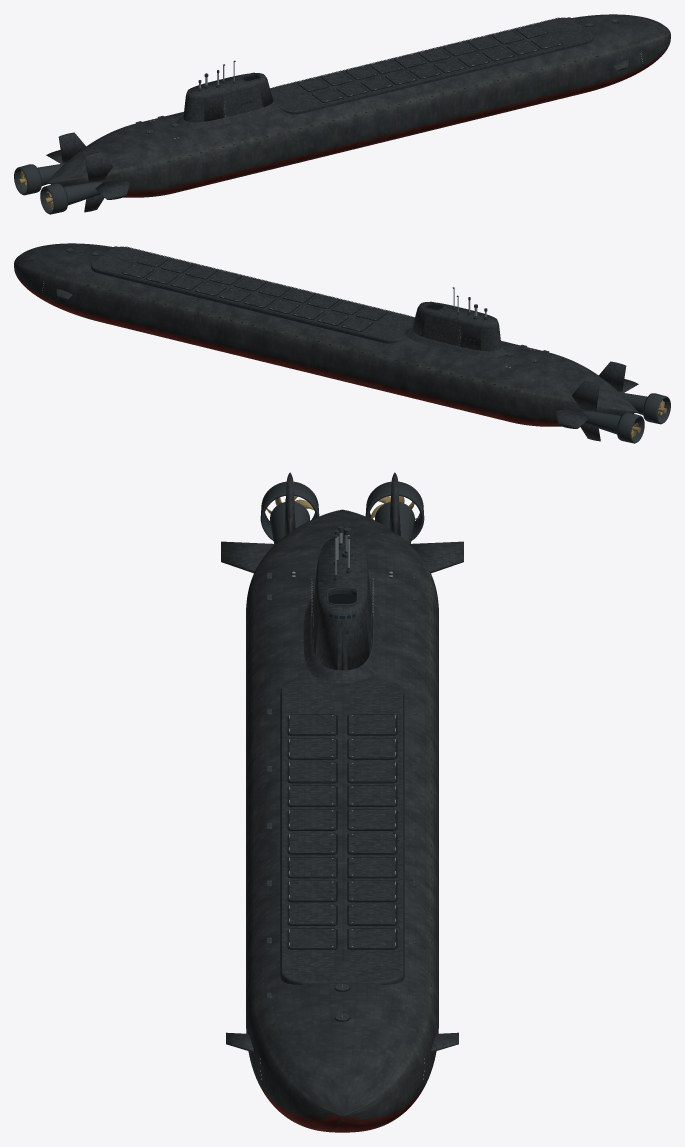
File: RU_SSBN_Typhoon_LOD2.fbx
3 views of the same model, one above another, from view 1: azimuth 30°, elevation 25°; view 2: azimuth 150°, elevation 25°; view 3: azimuth 270°, elevation 25° (orthographic). The views are drawn at different scales.
Visible parts, largest first — view 1: SM_Typhoon_LOD2; view 2: SM_Typhoon_LOD2; view 3: SM_Typhoon_LOD2.
Boxes of the visible parts, box(x1,y1,x2,y2) form: SM_Typhoon_LOD2: box(14, 14, 670, 214); SM_Typhoon_LOD2: box(14, 243, 670, 443); SM_Typhoon_LOD2: box(221, 472, 463, 1132).
Size of the model in its own units: 175 by 29 by 28.33.
